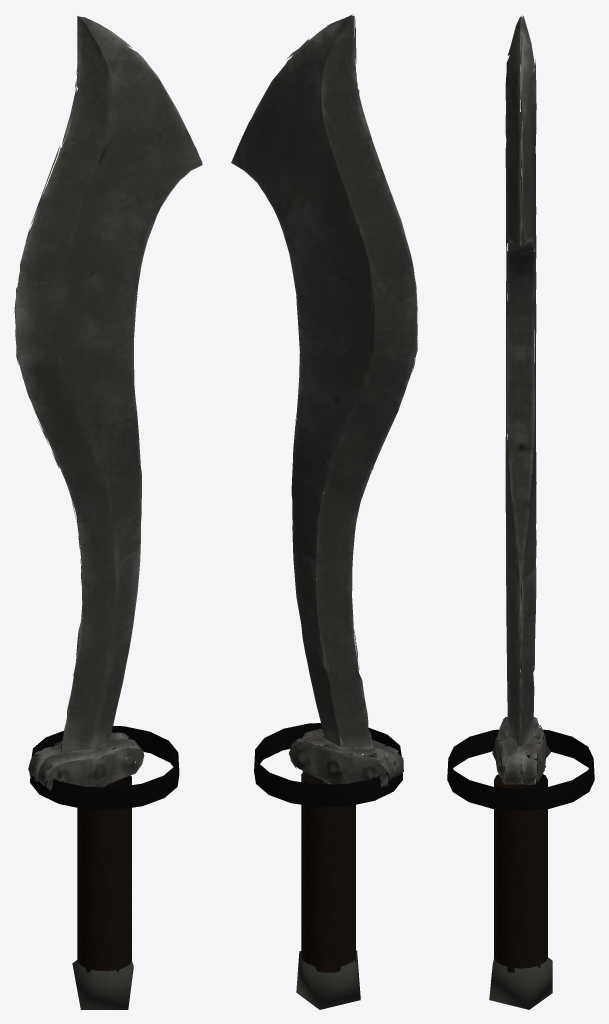
Rendered from cleaver.part.glb.
3 views of the same model, side by side, from view 1: azimuth 30°, elevation 25°; view 2: azimuth 150°, elevation 25°; view 3: azimuth 270°, elevation 25° (orthographic). The views are drawn at different scales.
Visible parts, largest first — view 1: WeaponDrawn; view 2: WeaponDrawn; view 3: WeaponDrawn.
Part boxes in pixels (x1,y1,x2,y2): WeaponDrawn: (14, 16, 202, 1009); WeaponDrawn: (231, 14, 417, 1009); WeaponDrawn: (447, 15, 594, 1009).
Bounding box in the file's own units: 0.1952 × 0.9861 × 0.1359.
2 materials, 2 textured.
